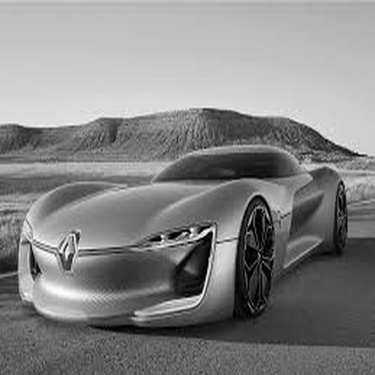car: (13, 133, 370, 322)
